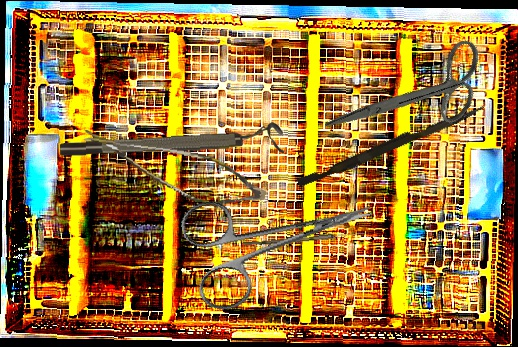Fixation Ring: (59, 121, 284, 161)
Iris Scissors: (324, 2, 502, 189), (176, 160, 388, 317)
Micro Scissor: (73, 128, 271, 212)
Pusher: (296, 97, 486, 193)
Surgical Spoon: (243, 229, 366, 249)
